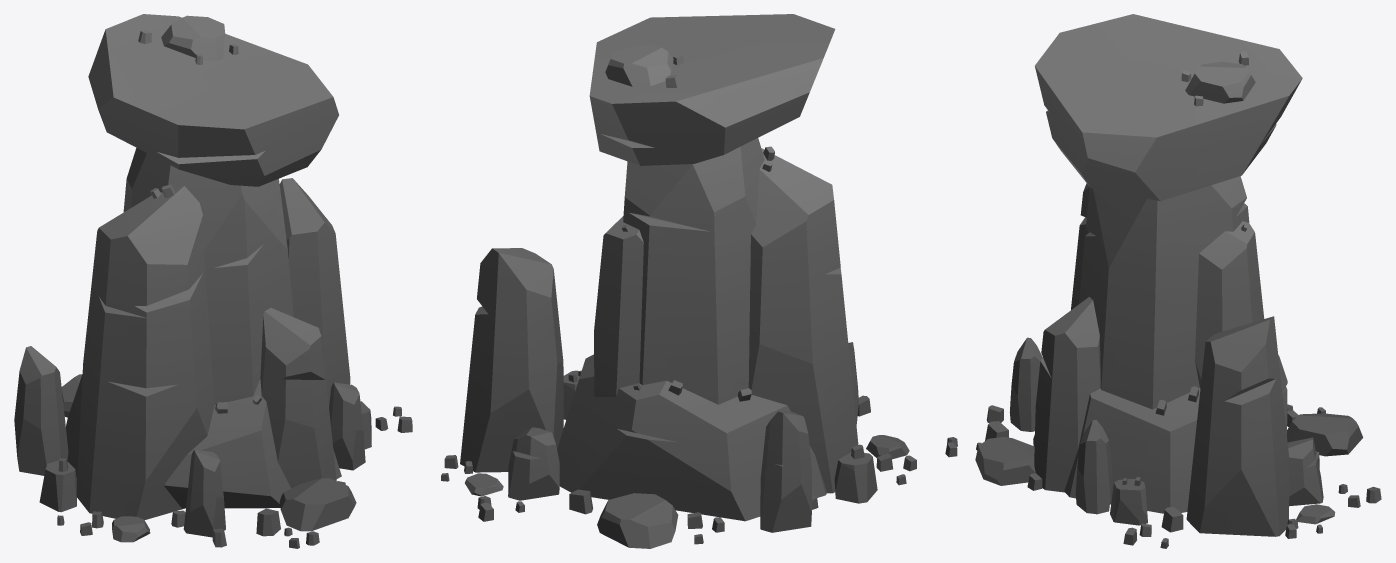
File: BigRock_03.fbx
The picture shows the model from 3 angles, left to right: view 1: azimuth 30°, elevation 25°; view 2: azimuth 150°, elevation 25°; view 3: azimuth 270°, elevation 25°; orthographic projection. The views are drawn at different scales.
Visible parts, largest first — view 1: big_rock_02; view 2: big_rock_02; view 3: big_rock_02.
Boxes of the visible parts, x1,y1,x2,y2 form: big_rock_02: (14, 14, 412, 548); big_rock_02: (441, 14, 916, 548); big_rock_02: (945, 14, 1381, 548).
Bounding box in the file's own units: 447 × 470 × 467.
1 material, 1 textured.
